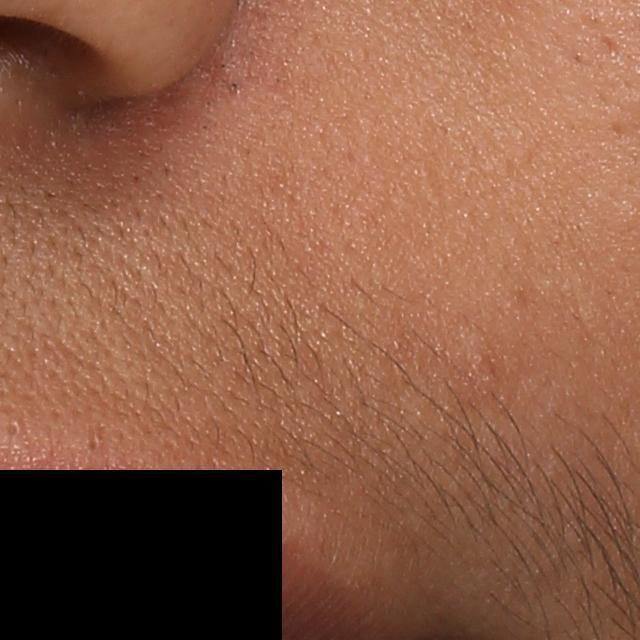comedo: (1, 416, 24, 439)
